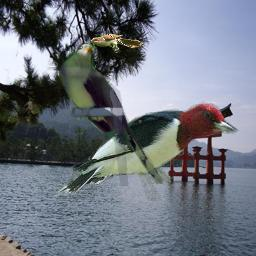Cuckoo: (59, 42, 171, 186), (89, 34, 143, 53)
Woodpecker: (52, 95, 243, 206)
